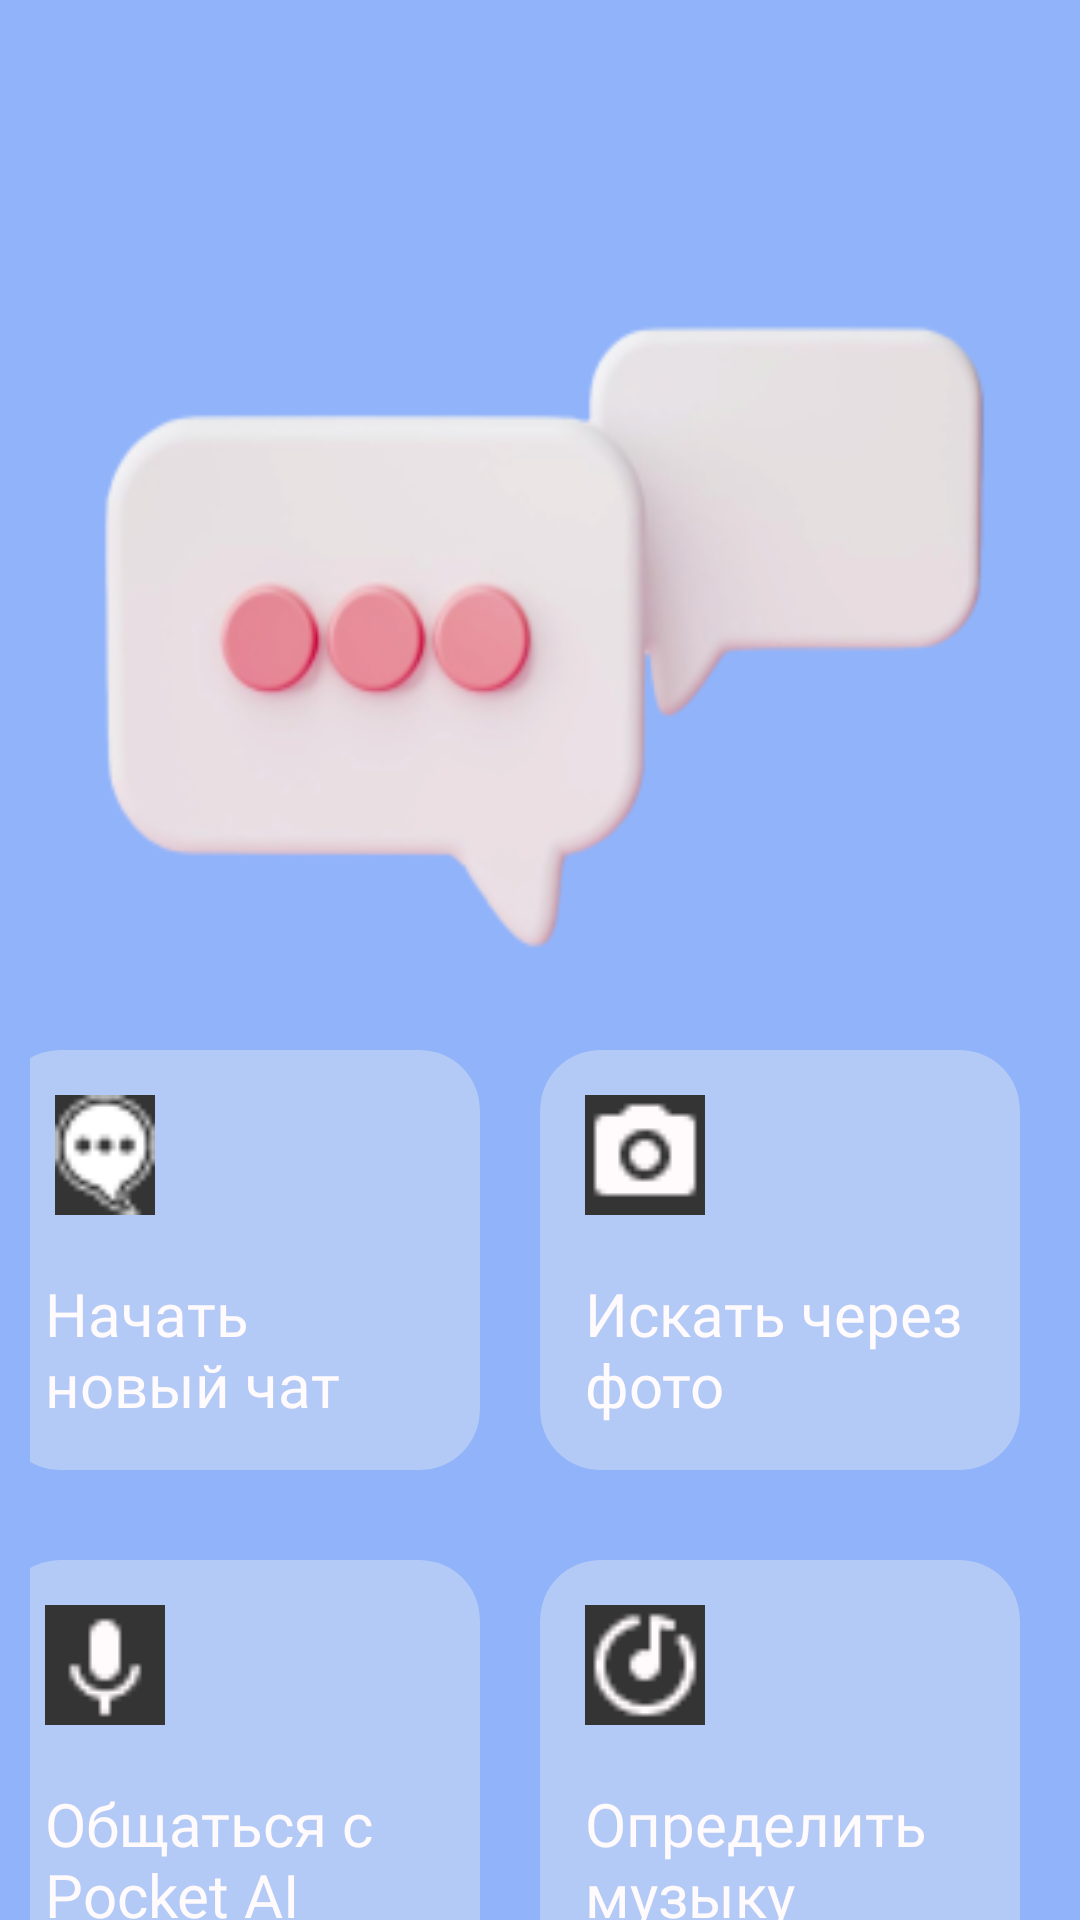

Screen size 1080x1920. Icon name, then its box in pixels as [x1, y1, x2, y2]:
chat: [55, 1095, 155, 1215]
keyboard voice: [45, 1605, 165, 1725]
mingcute music line: [585, 1605, 705, 1725]
photo camera: [585, 1095, 705, 1215]
